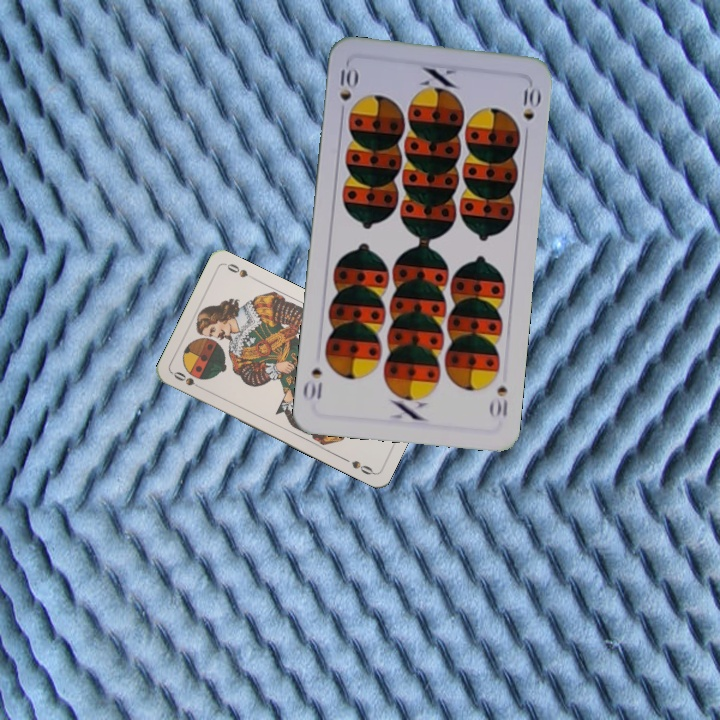S10: (336, 63, 359, 120), (486, 382, 510, 420)
SO: (169, 367, 207, 392)
